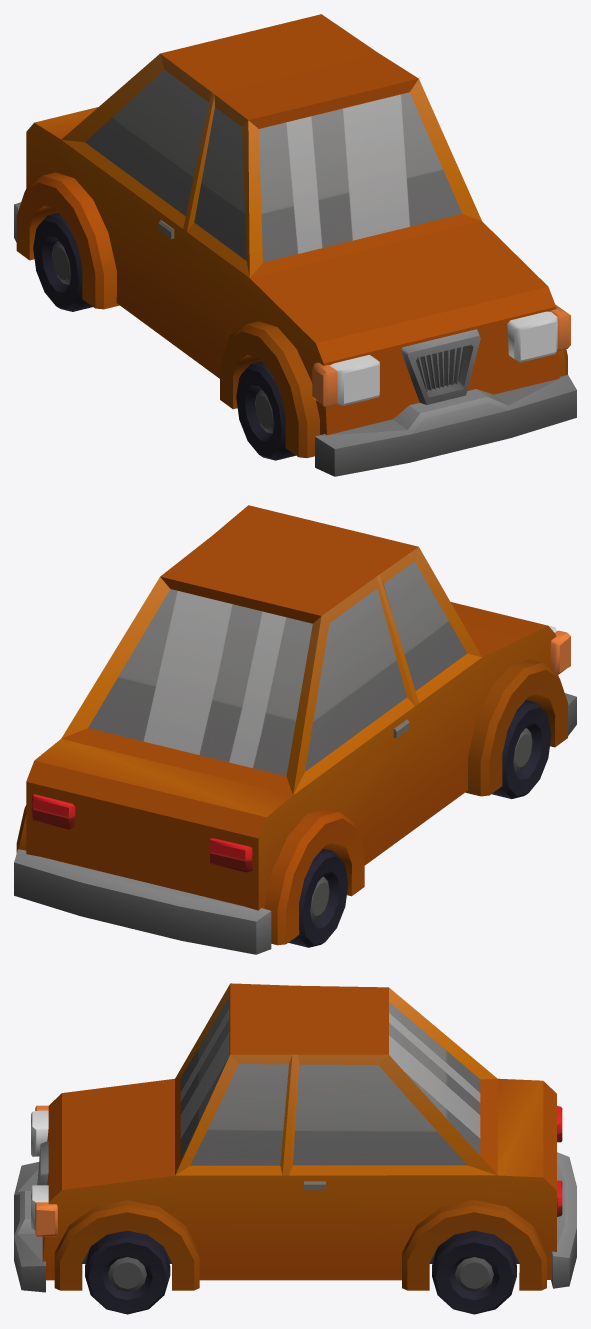
File: Car_4_3.fbx
3 renders of one model, top to bottom at view 1: azimuth 30°, elevation 25°; view 2: azimuth 150°, elevation 25°; view 3: azimuth 270°, elevation 25°, orthographic. The views are drawn at different scales.
Visible parts, largest first — view 1: Car_4_3, BWhel_FR, BWhel_BR; view 2: Car_4_3, BWhel_BR, BWhel_FR; view 3: Car_4_3, BWhel_FL, BWhel_BL.
Boxes of the visible parts, left/top/right/bottom form: Car_4_3: left=14, top=14, right=576, bottom=476; BWhel_FR: left=236, top=361, right=295, bottom=460; BWhel_BR: left=33, top=212, right=92, bottom=311; Car_4_3: left=14, top=505, right=576, bottom=954; BWhel_BR: left=288, top=848, right=348, bottom=947; BWhel_FR: left=491, top=700, right=551, bottom=798; Car_4_3: left=14, top=983, right=576, bottom=1292; BWhel_FL: left=85, top=1230, right=170, bottom=1314; BWhel_BL: left=432, top=1230, right=516, bottom=1314.
Size of the model in its own units: 1.09 by 1.09 by 2.3.
